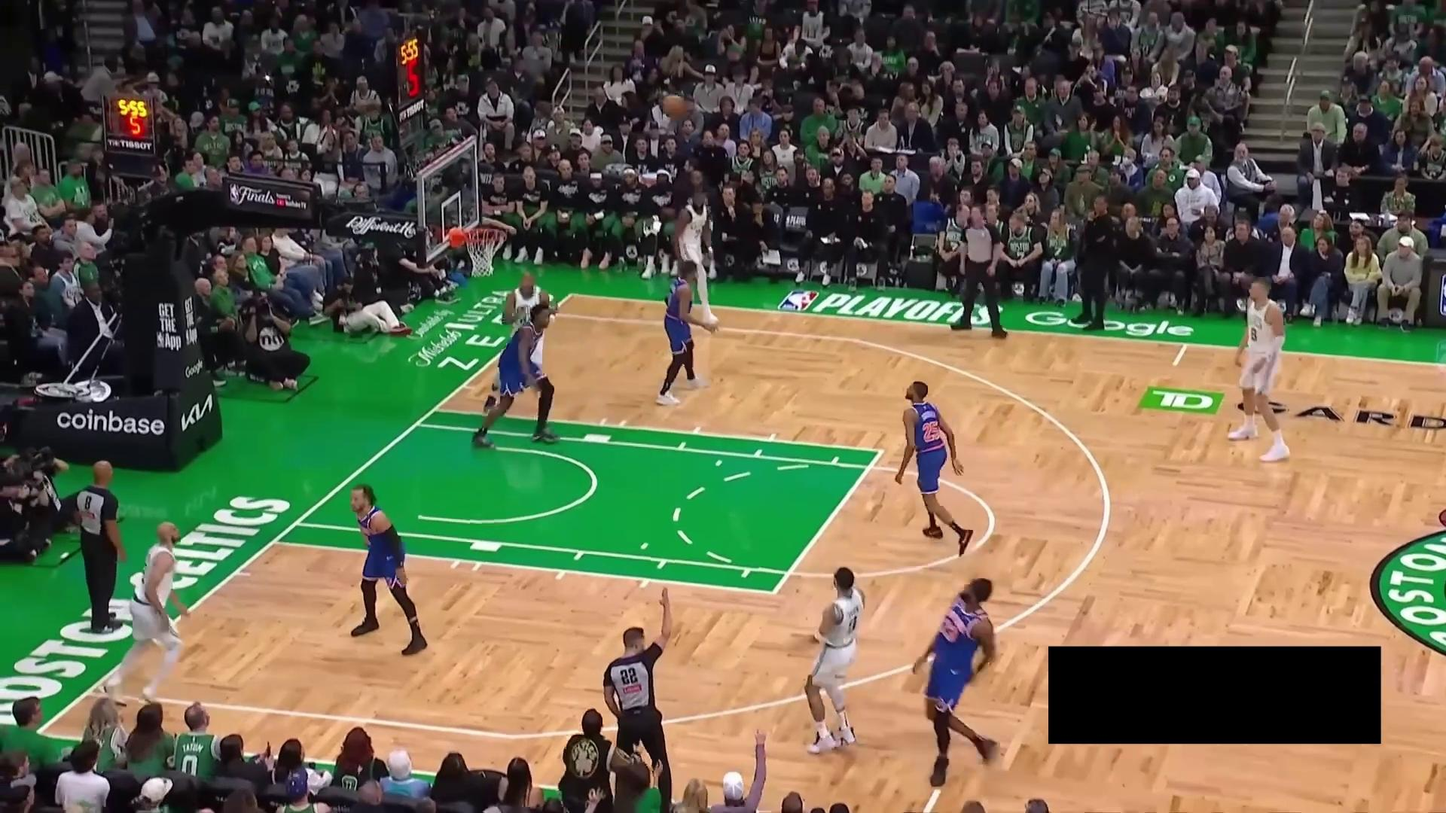ball: (660, 93, 690, 121)
number: (921, 419, 941, 442), (1249, 326, 1258, 343)
player: (911, 573, 1003, 791), (101, 517, 195, 700), (891, 379, 977, 558), (346, 479, 430, 658), (796, 562, 873, 757), (470, 303, 559, 448), (1228, 276, 1291, 461), (483, 270, 553, 418), (652, 256, 718, 406), (670, 187, 720, 328)
referee: (598, 579, 679, 813), (65, 456, 127, 636), (946, 202, 1010, 343)
rim: (466, 226, 510, 244)
